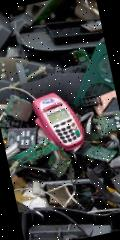electronic: (24, 82, 99, 172)
